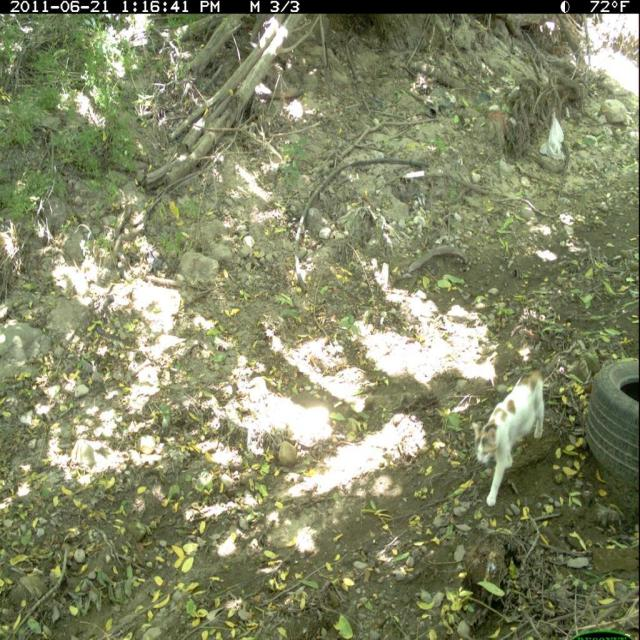cat: (470, 360, 548, 512)
